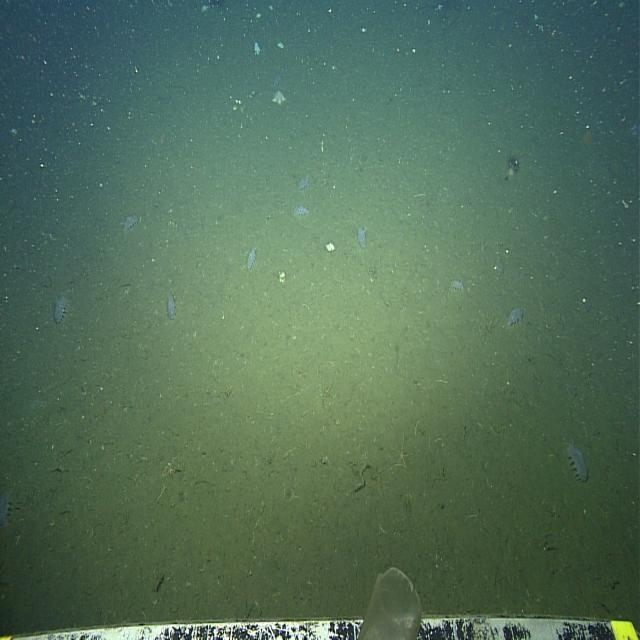Brittle Star: (389, 434, 413, 474), (480, 307, 500, 340), (161, 457, 179, 482)
Not Brittle Star: (562, 436, 590, 487), (0, 484, 16, 536), (52, 290, 70, 327), (504, 302, 526, 331), (244, 240, 260, 274), (121, 209, 140, 235), (165, 288, 178, 321), (354, 223, 368, 251), (626, 115, 640, 142), (295, 172, 311, 195), (448, 275, 466, 295), (292, 201, 310, 220), (493, 251, 506, 276), (271, 88, 287, 106), (273, 70, 283, 87)
